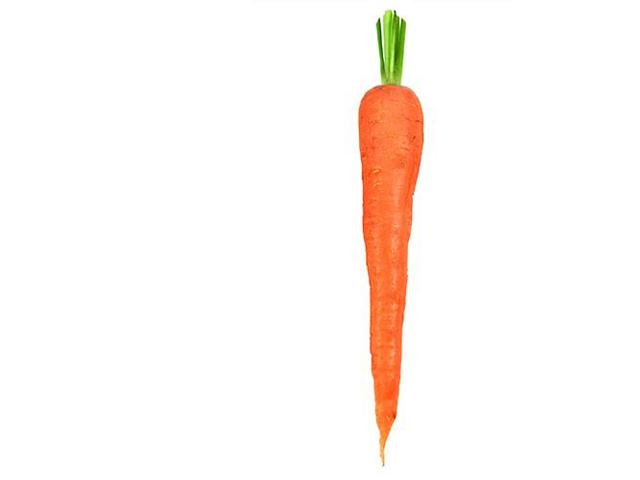carrot: (346, 73, 438, 462)
